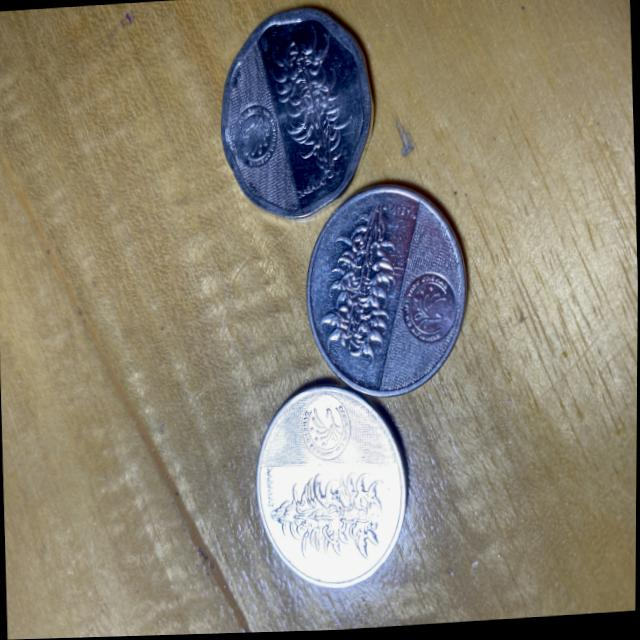5_New_Back: (267, 25, 362, 186), (271, 463, 389, 568), (318, 213, 397, 363)
